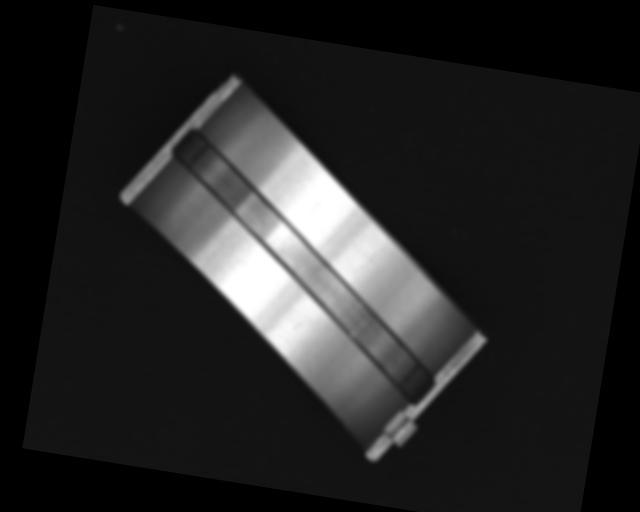gap: (138, 124, 468, 406)
nick: (358, 241, 385, 274)
